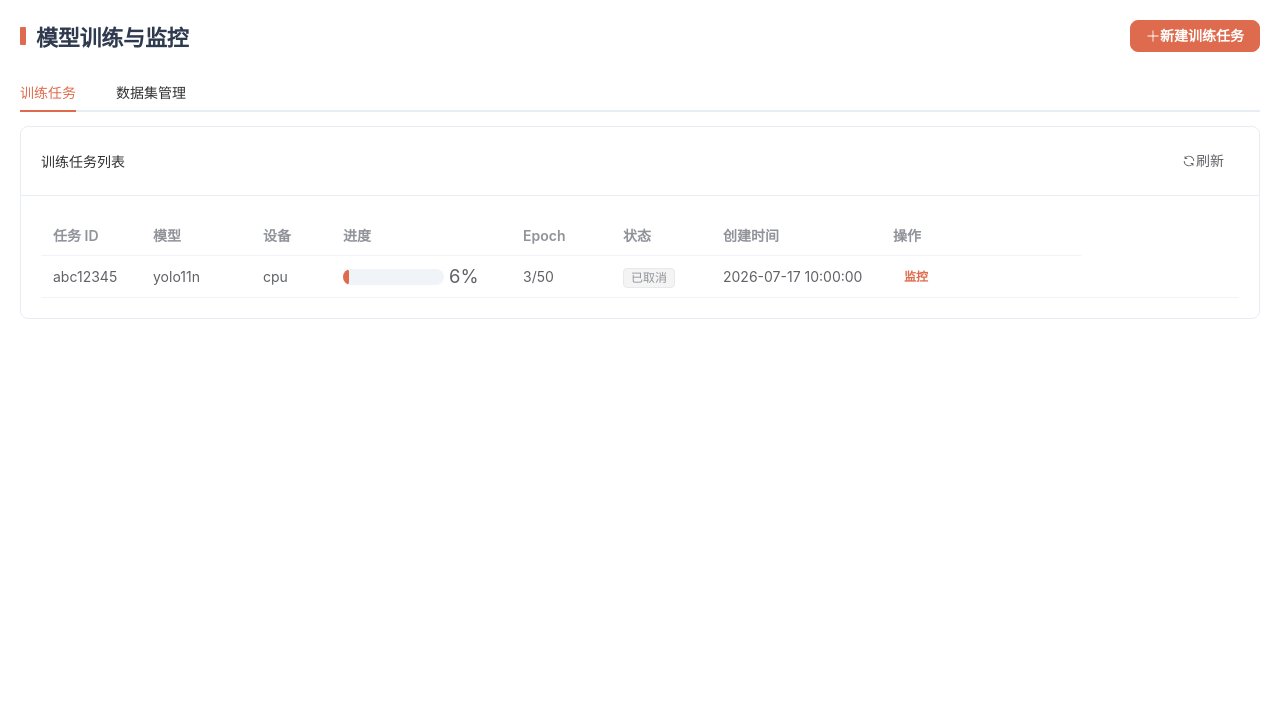
TrainingPage 异步模型评估 › 中断任务显示与完成任务相同的模型操作并恢复评估状态
Click the button "监控": (916, 277) [893,265,939,289]
(page scrolled)
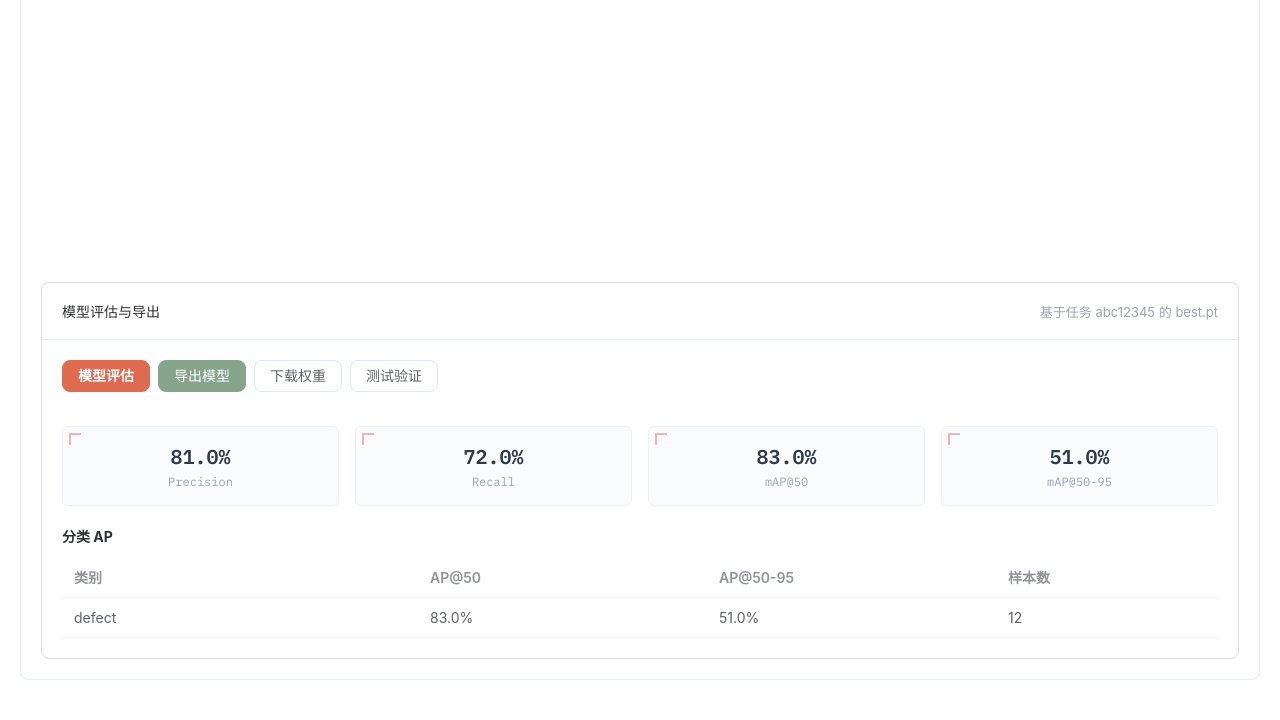
Result: the button "模型评估" is shown at [62,360,150,392]
Result: the button "导出模型" is shown at [158,360,246,392]
Result: the button "下载权重" is shown at [254,360,342,392]
